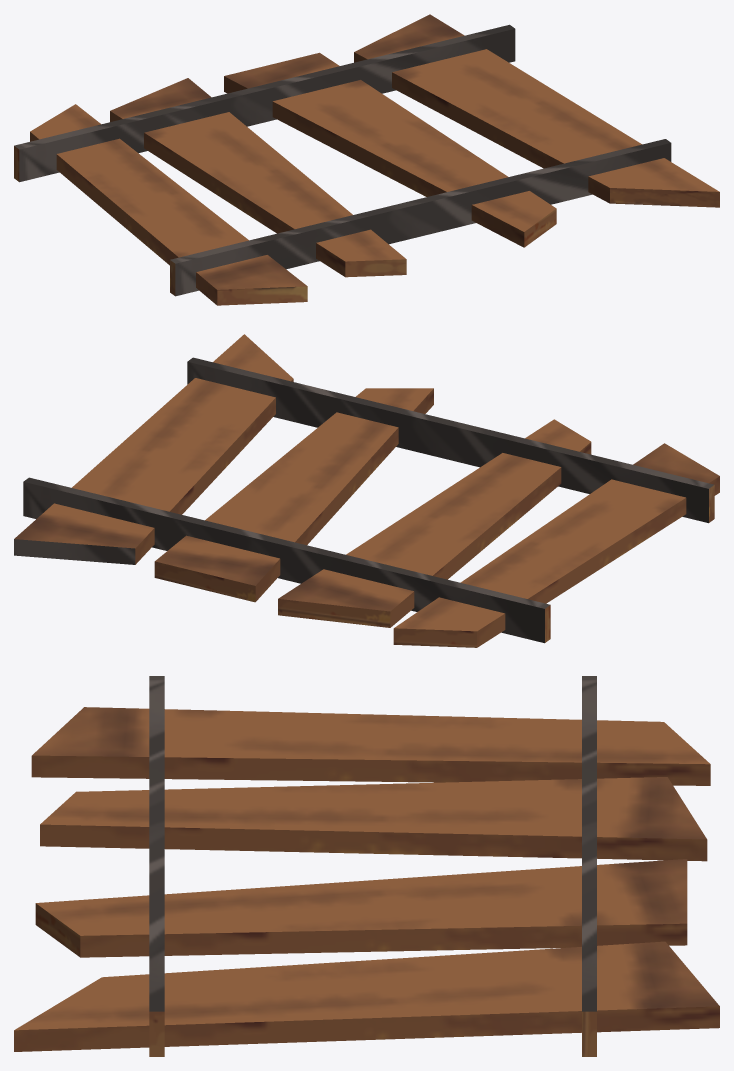
File: rails.FBX
The picture shows the model from 3 angles, top to bottom: view 1: azimuth 30°, elevation 25°; view 2: azimuth 150°, elevation 25°; view 3: azimuth 270°, elevation 25°; orthographic projection. The views are drawn at different scales.
Parts seen in each view (by area): view 1: Box010; view 2: Box010; view 3: Box010.
Boxes of the visible parts, x1,y1,x2,y2 form: Box010: (14,14,719,305); Box010: (14,334,719,647); Box010: (14,676,719,1056).
Size of the model in its own units: 307 by 19.29 by 273.
1 material, 1 textured.
